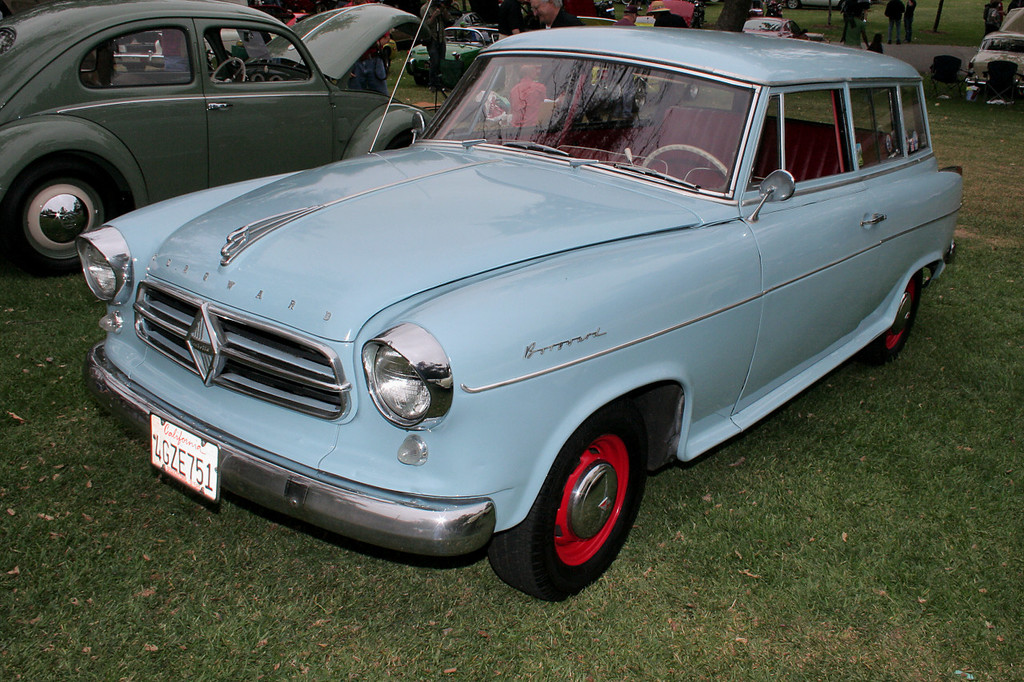Car: (0, 0, 961, 602), (966, 4, 1023, 99)
